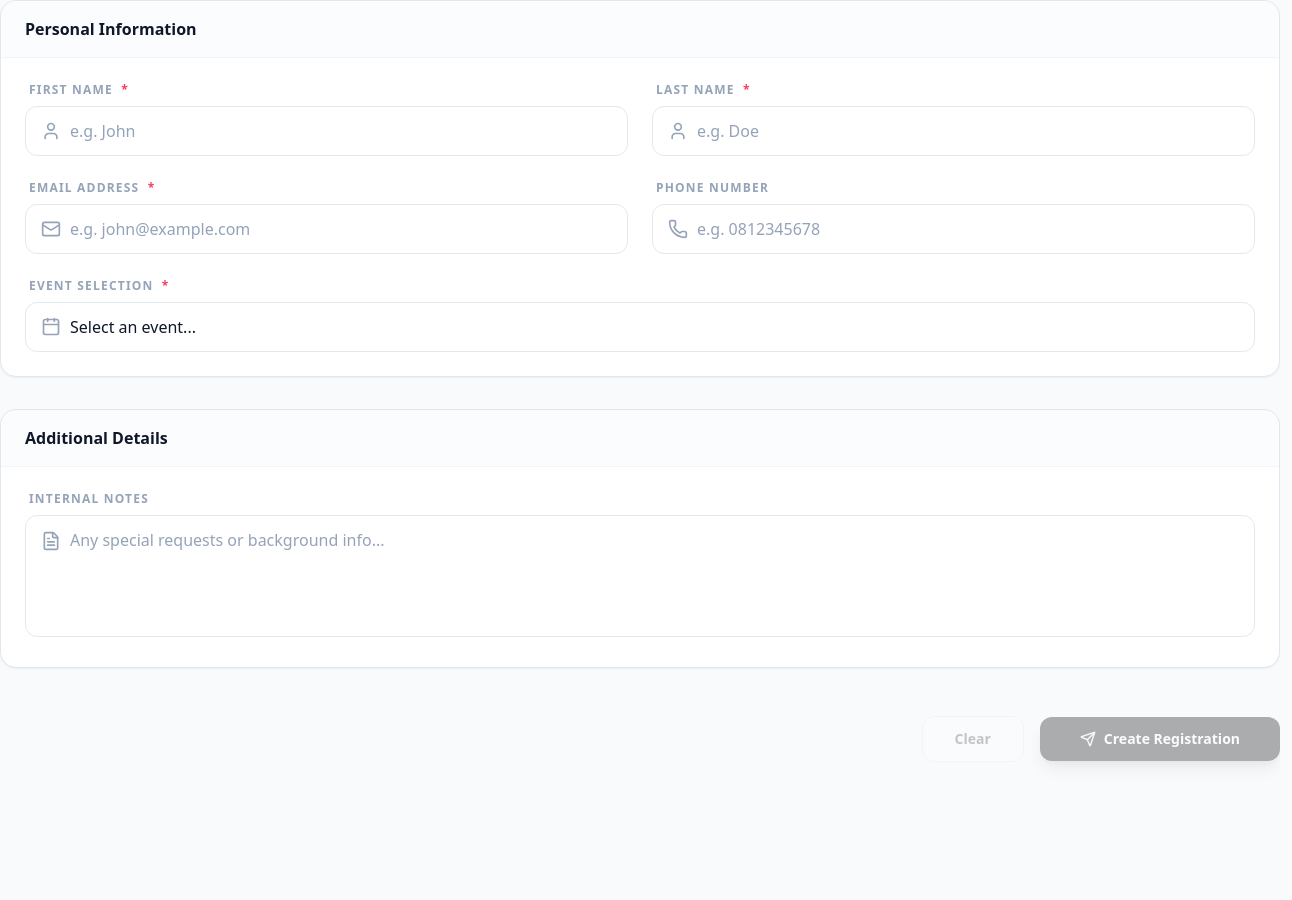
Test case: RegistrationForm › only allows numeric input for the phone field and limits to 10 digits
The image size is (1292, 900).
Step 1. Type "081abc23456789" into the field with placeholder "e.g. 0812345678" → (954, 229), box [652,204,1255,254]
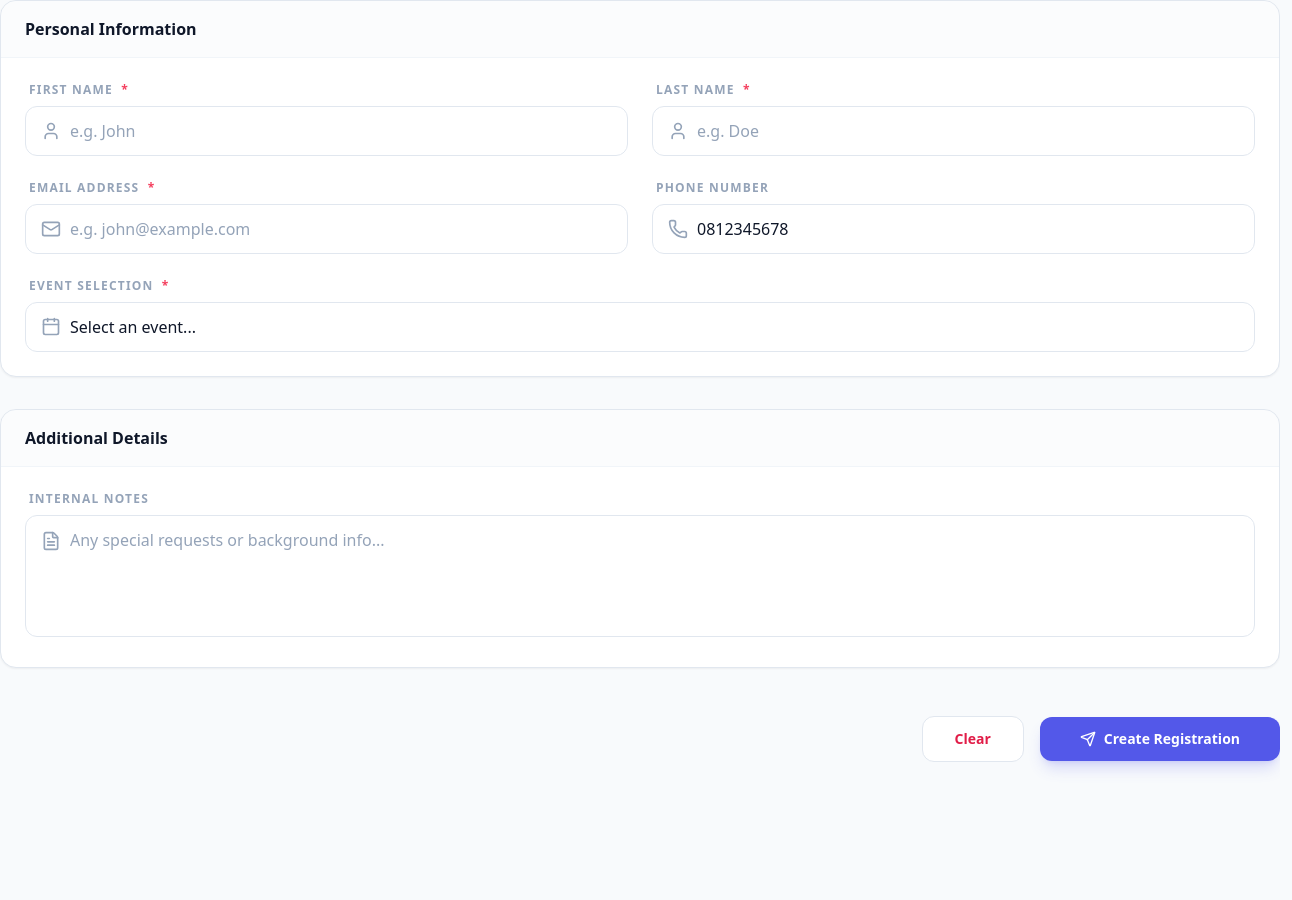
Expected: the field with placeholder "e.g. 0812345678" holds "0812345678", [652,204,1255,254]
